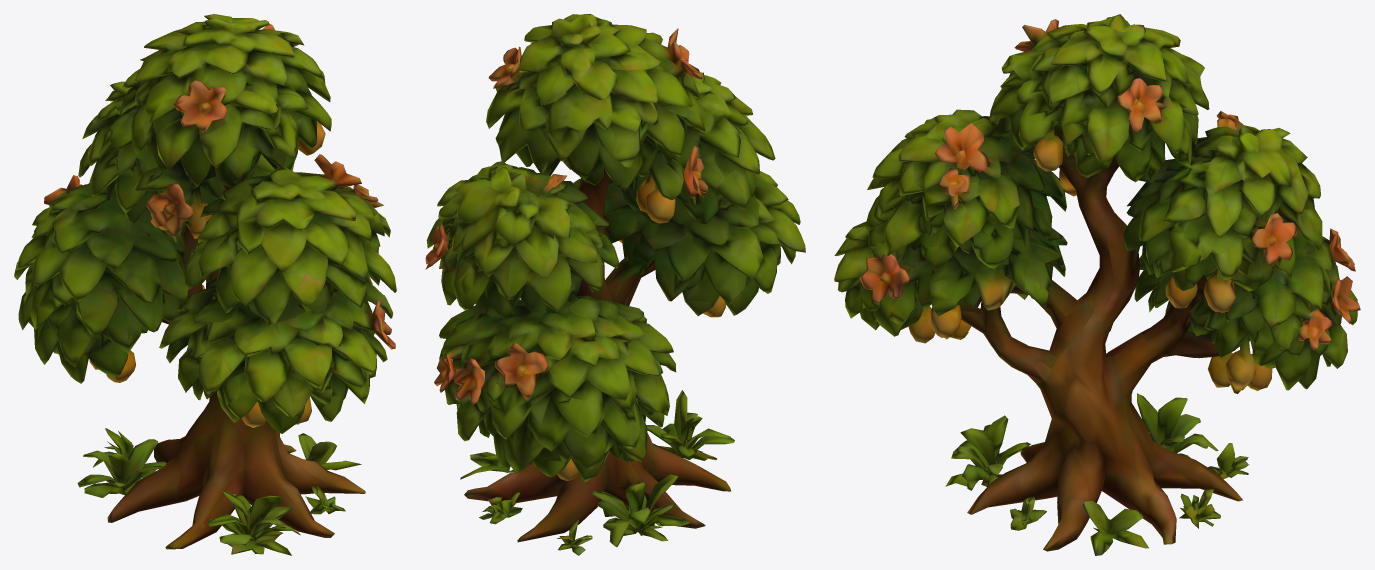
The model's file is tr02-bloomfruit-tree.glb.
3 renders of one model, left to right at view 1: azimuth 30°, elevation 25°; view 2: azimuth 150°, elevation 25°; view 3: azimuth 270°, elevation 25°, orthographic.
Visible parts, largest first — view 1: tripo_node_8969feaf-cba7-4013-84a3-aefdf2be5995; view 2: tripo_node_8969feaf-cba7-4013-84a3-aefdf2be5995; view 3: tripo_node_8969feaf-cba7-4013-84a3-aefdf2be5995.
Boxes of the visible parts, left/top/right/bottom form: tripo_node_8969feaf-cba7-4013-84a3-aefdf2be5995: left=14, top=14, right=396, bottom=555; tripo_node_8969feaf-cba7-4013-84a3-aefdf2be5995: left=425, top=14, right=805, bottom=555; tripo_node_8969feaf-cba7-4013-84a3-aefdf2be5995: left=834, top=14, right=1360, bottom=555.
Size of the model in its own units: 0.5754 by 0.9986 by 0.9952.
1 material, 1 textured.
